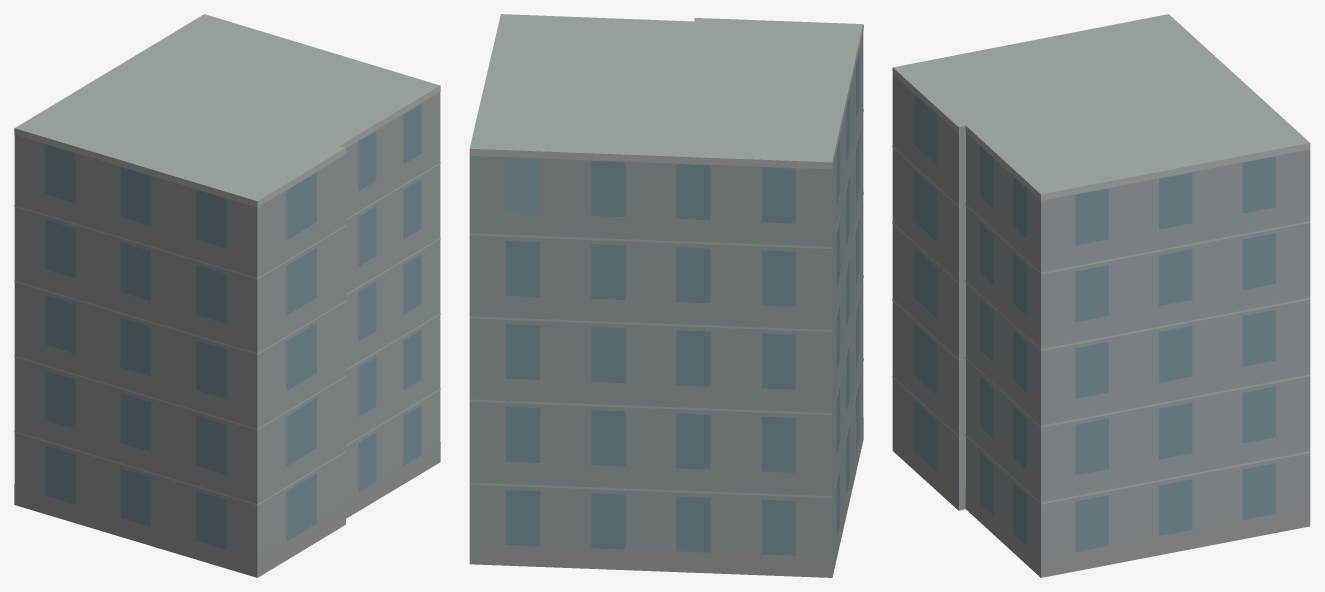
Rendered from survey-upis-32947514.glb.
3 views of the same model, side by side, from view 1: azimuth 30°, elevation 25°; view 2: azimuth 150°, elevation 25°; view 3: azimuth 270°, elevation 25° (orthographic). The views are drawn at different scales.
Visible parts, largest first — view 1: survey-upis-32947514.tmp; view 2: survey-upis-32947514.tmp; view 3: survey-upis-32947514.tmp.
Boxes of the visible parts, bbox=[...] form: survey-upis-32947514.tmp: bbox=[14, 14, 440, 577]; survey-upis-32947514.tmp: bbox=[469, 14, 863, 577]; survey-upis-32947514.tmp: bbox=[892, 14, 1310, 577].
Bounding box in the file's own units: 14.66 × 14.5 × 14.34.
